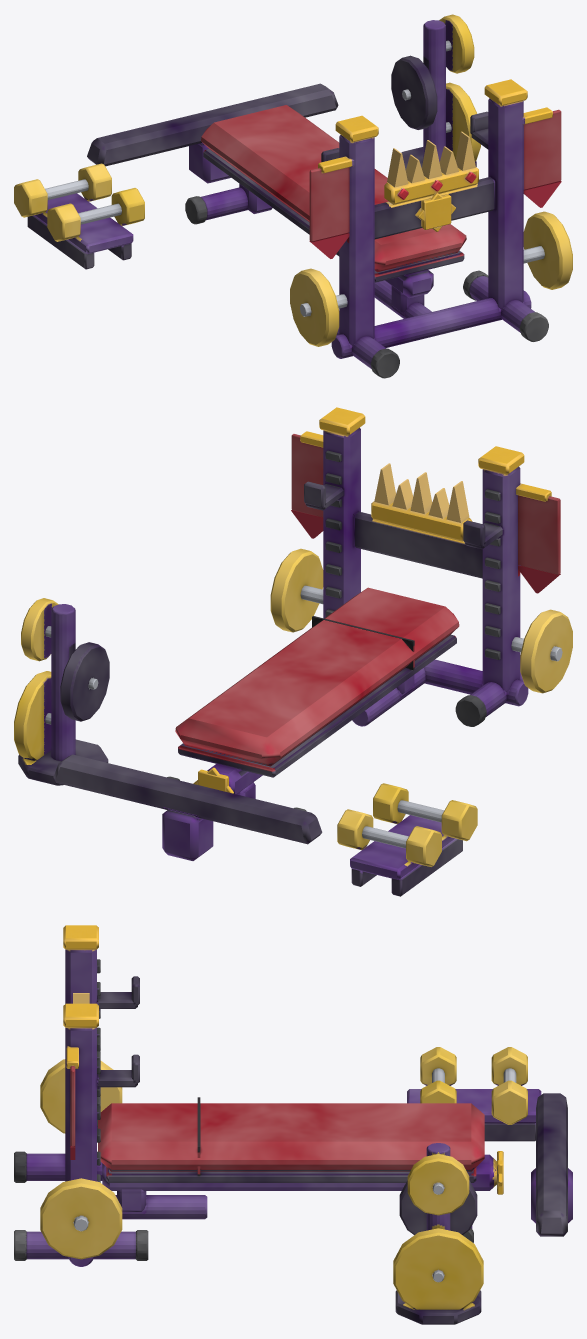
File: Bench_Royal_Rig.fbx
3 views of the same model, one above another, from view 1: azimuth 30°, elevation 25°; view 2: azimuth 150°, elevation 25°; view 3: azimuth 270°, elevation 25° (orthographic). The views are drawn at different scales.
Parts seen in each view (by area): view 1: Rack, Weights, Bench, Decor; view 2: Rack, Weights, Bench, Decor; view 3: Bench, Weights, Rack, Decor.
Part boxes in pixels (x1,y1,x2,y2): Rack: (290,79,572,378); Weights: (14,14,480,269); Bench: (185,105,466,298); Decor: (309,107,561,258); Rack: (270,407,572,726); Weights: (14,598,477,896); Bench: (167,587,459,811); Decor: (291,431,560,593); Bench: (98,1097,503,1242); Weights: (393,1047,572,1324); Rack: (14,925,207,1266); Decor: (66,993,89,1159).
Size of the model in its own units: 11.23 by 6 by 12.2.
Materials: 1 (1 with a texture image).
